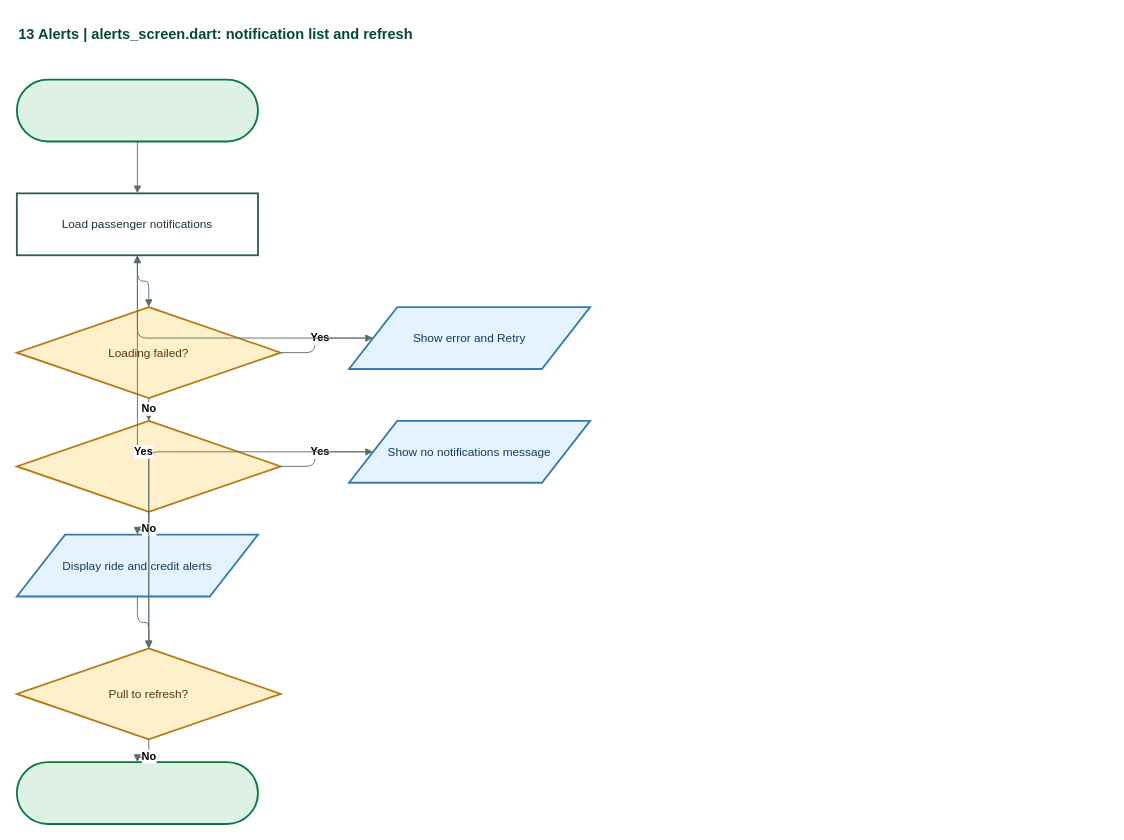
The diagram is 1124 pixels wide and 840 high, and some of its shapes have lost their labels. Each missing label, with the box of its shape:
End: (15, 761, 258, 824)
Notifications empty?: (15, 420, 281, 512)
Start: (15, 78, 258, 142)
